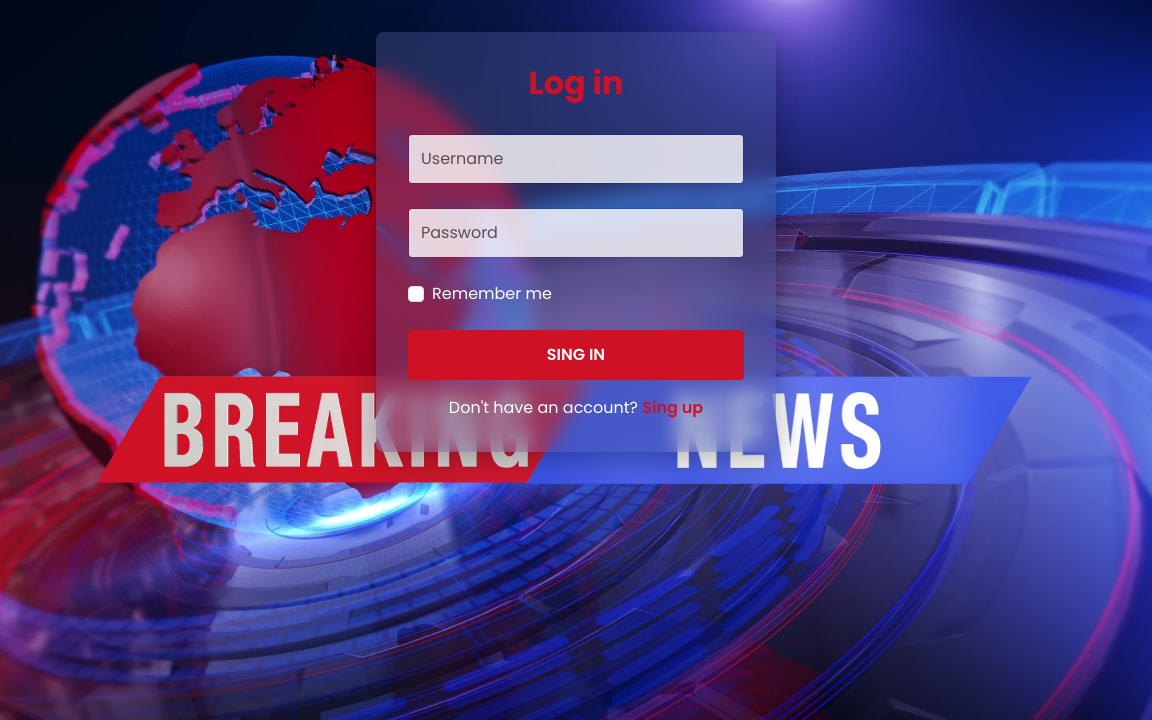
it: LoginPage › should disable submit button while loading
In the field with placeholder "Username": (576, 159) [408, 134, 744, 184], type "testuser"
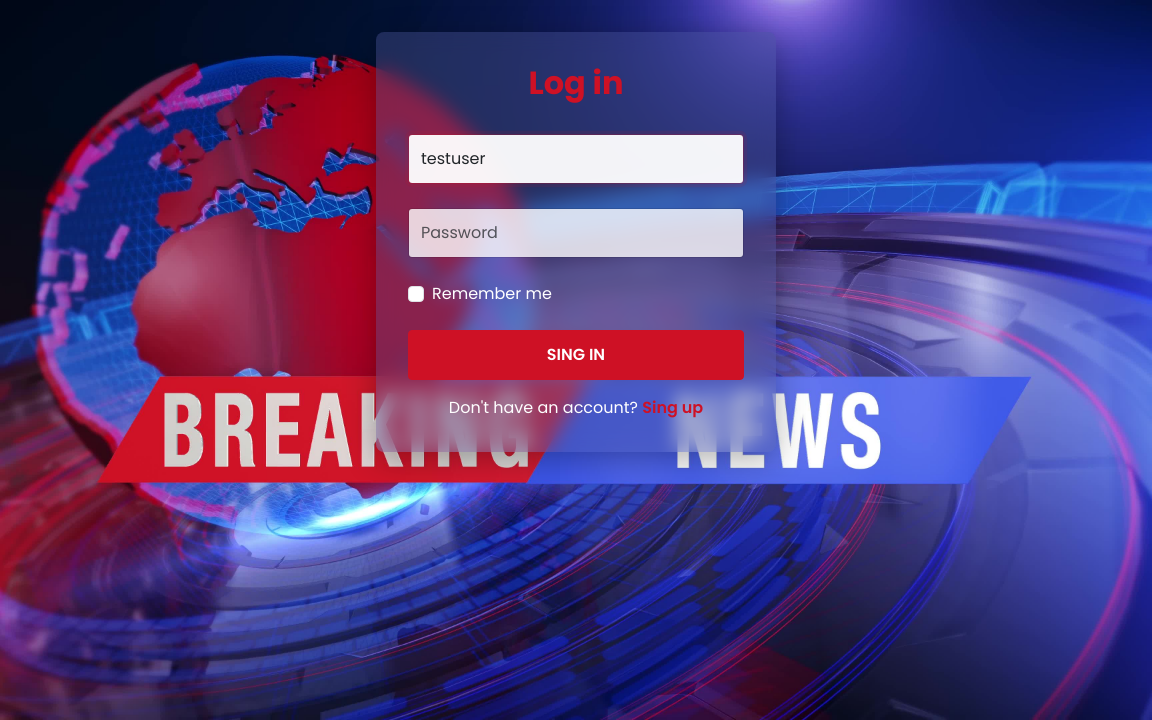
In the password field with placeholder "Password": (576, 233) [408, 208, 744, 258], type "password123"
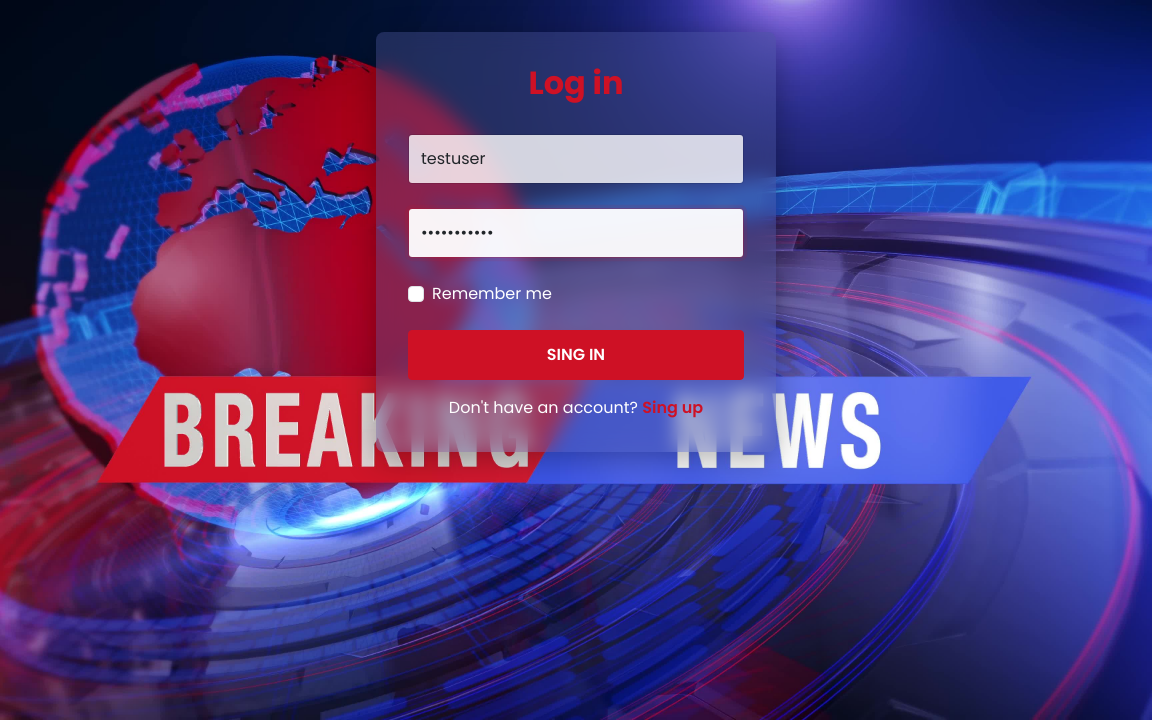
Click the button "SING IN": (576, 355) [408, 330, 744, 380]
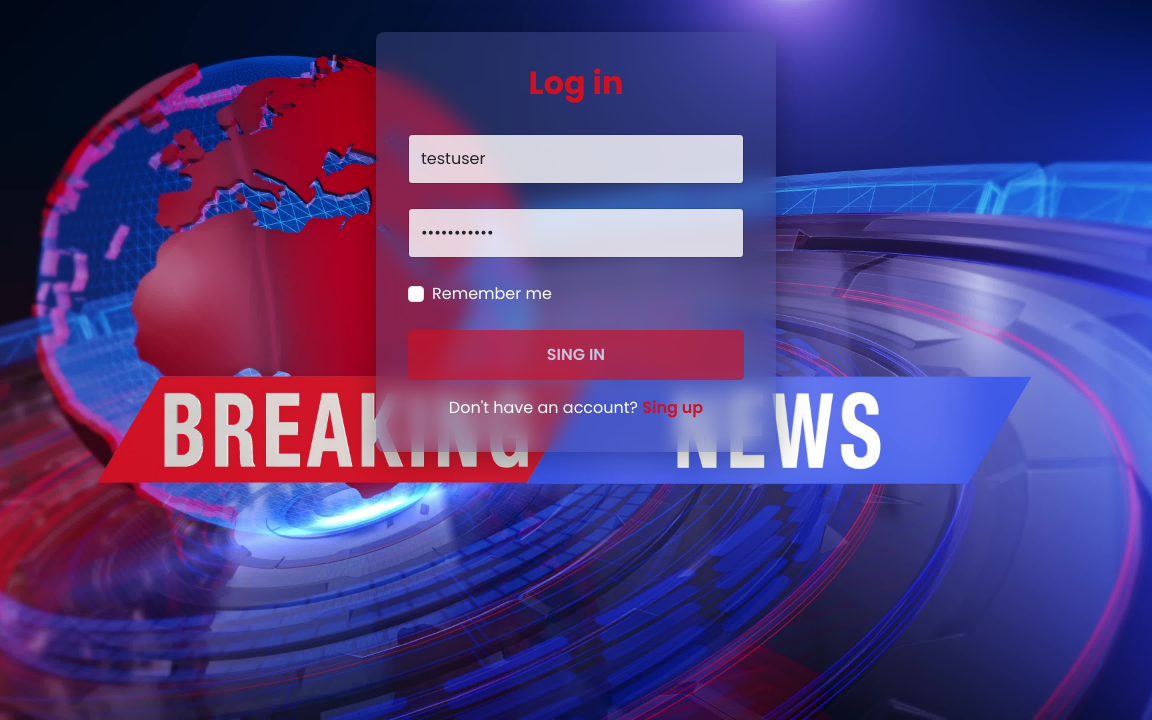
expect the button "SING IN" is disabled: met, box [408, 330, 744, 380]
